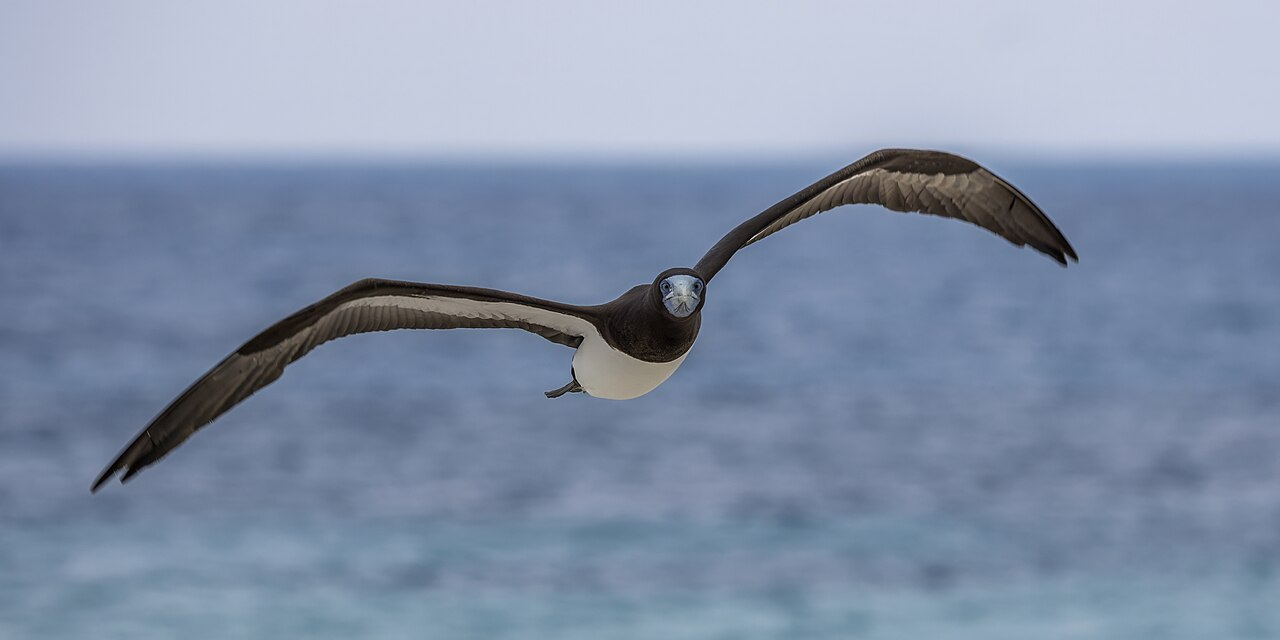bird: (87, 147, 1107, 493)
